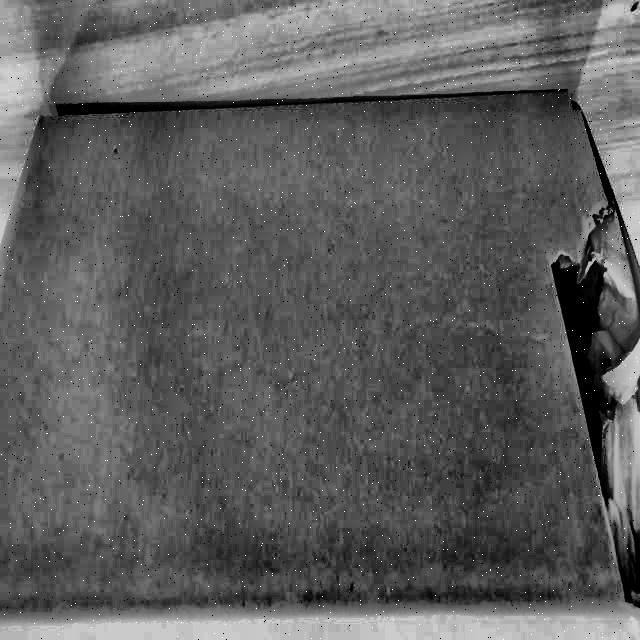box: (0, 68, 639, 635)
hole: (551, 248, 640, 610)
